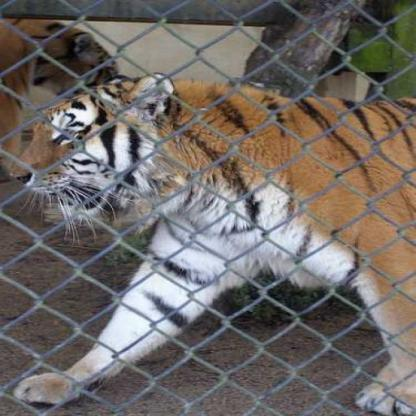Tiger: (17, 47, 415, 400)
